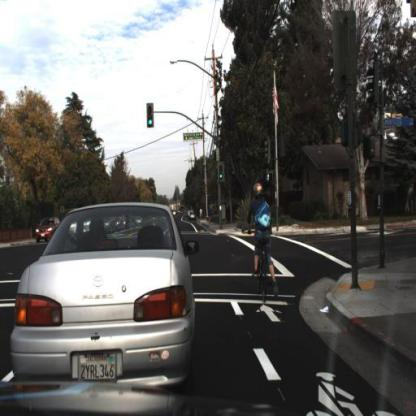biker: (232, 168, 276, 317), (248, 183, 273, 305)
car: (12, 201, 202, 395), (34, 214, 62, 245)
pedestrian: (204, 193, 217, 235), (198, 206, 206, 227)
trafficLight: (217, 163, 225, 187)
trafficLight-Green: (146, 105, 156, 134)
